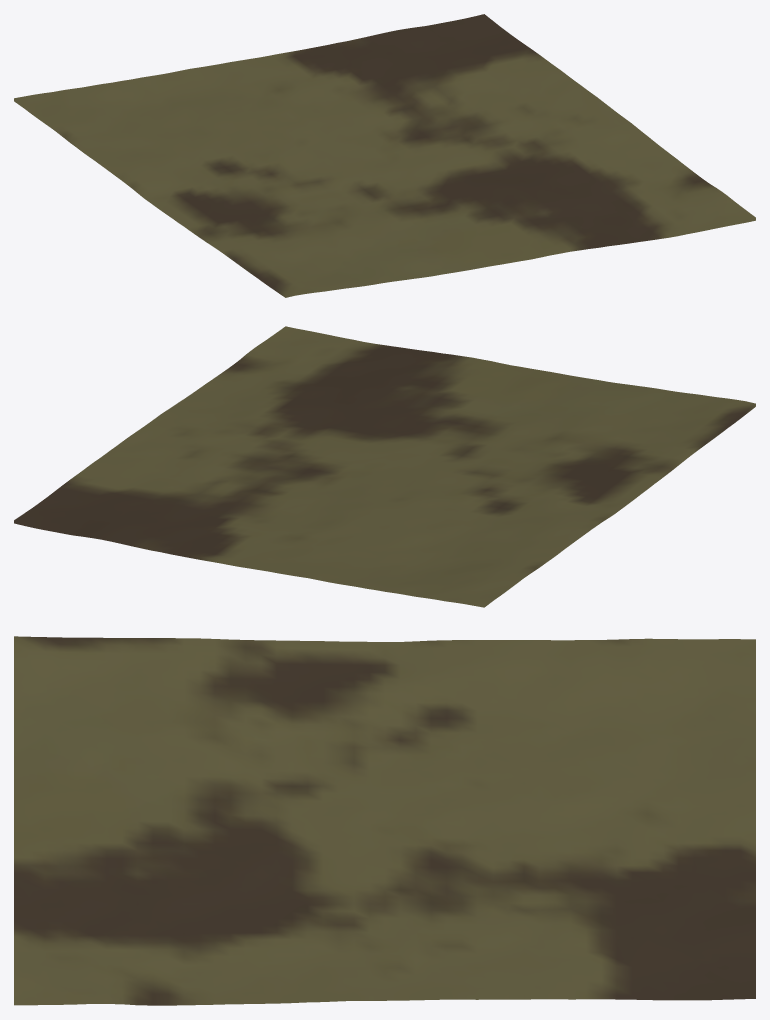
The model's file is land_m_00_08.glb.
3 renders of one model, top to bottom at view 1: azimuth 30°, elevation 25°; view 2: azimuth 150°, elevation 25°; view 3: azimuth 270°, elevation 25°, orthographic. The views are drawn at different scales.
Parts seen in each view (by area): view 1: land_m_00_08; view 2: land_m_00_08; view 3: land_m_00_08.
Boxes of the visible parts, x1,y1,x2,y2 form: land_m_00_08: (14,14,755,297); land_m_00_08: (14,326,755,607); land_m_00_08: (14,636,755,1005).
Bounding box in the file's own units: 960 × 79.46 × 960.
